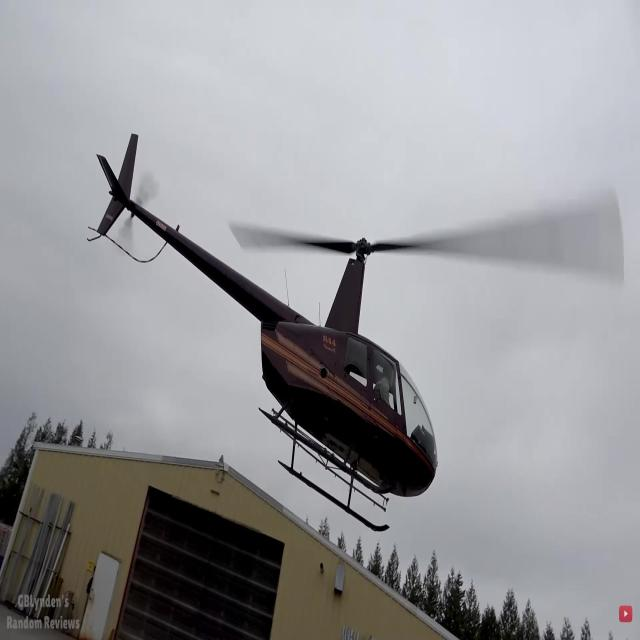CIV_HELO: (90, 127, 442, 534)
